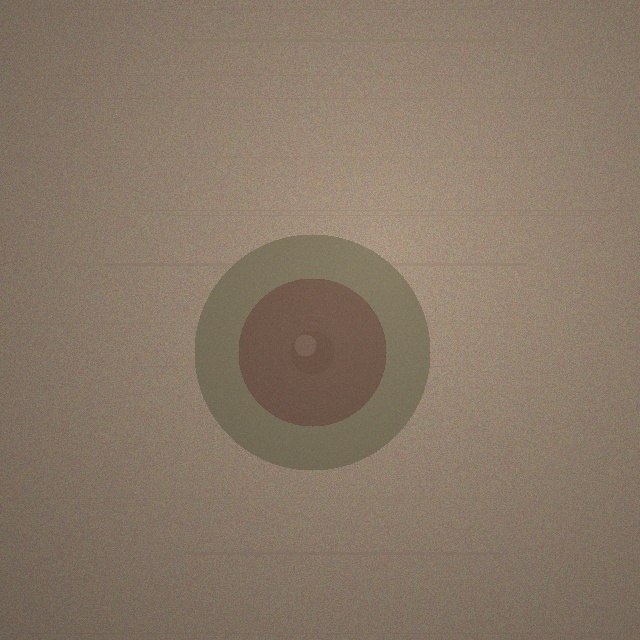good: (194, 234, 430, 470)
